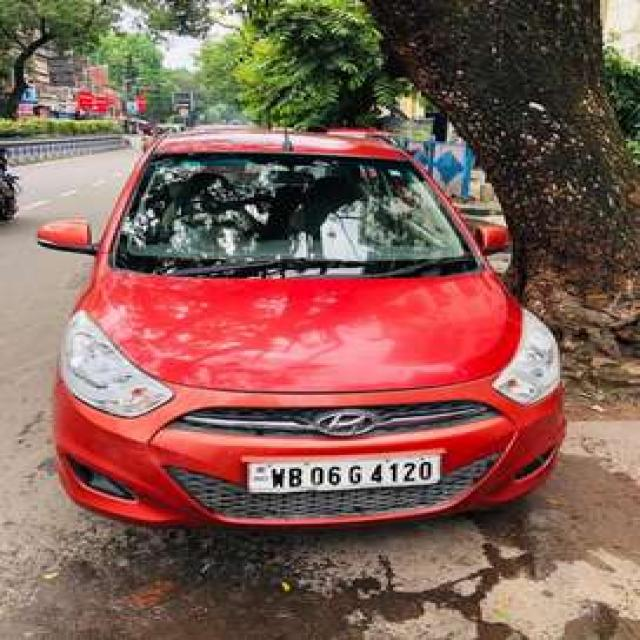Plate: (246, 450, 439, 493)
